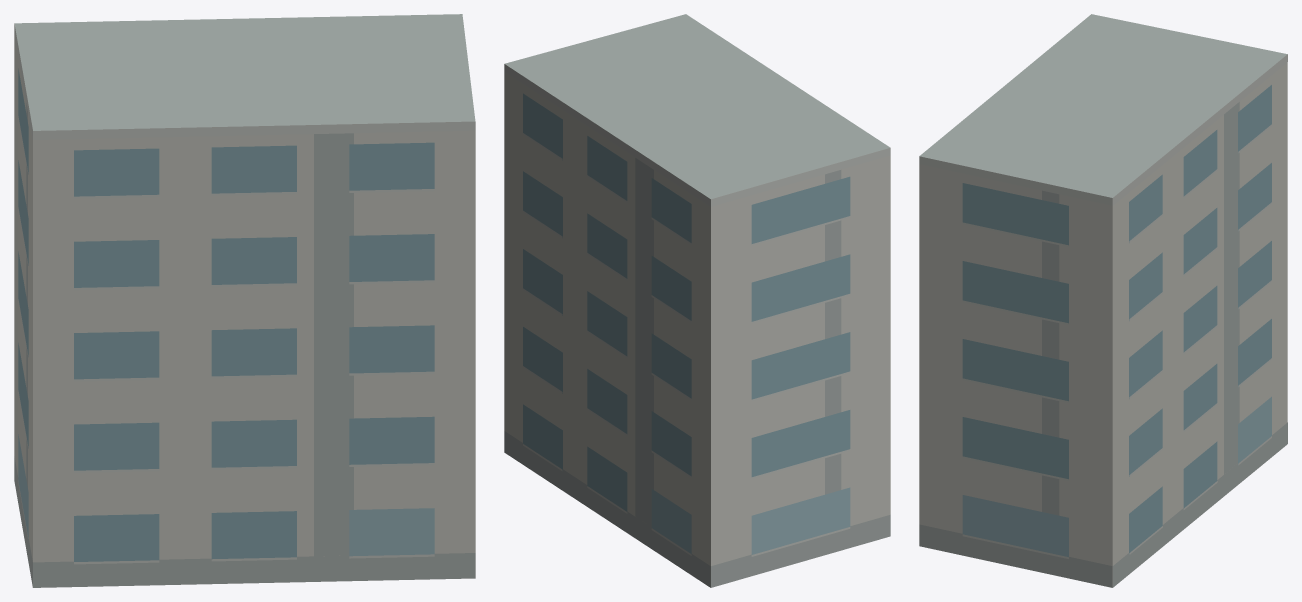
The model's file is survey-upis-32726272.glb.
The picture shows the model from 3 angles, left to right: view 1: azimuth 30°, elevation 25°; view 2: azimuth 150°, elevation 25°; view 3: azimuth 270°, elevation 25°; orthographic projection. The views are drawn at different scales.
Parts seen in each view (by area): view 1: survey-upis-32726272.tmp; view 2: survey-upis-32726272.tmp; view 3: survey-upis-32726272.tmp.
Part boxes in pixels (x1=…): survey-upis-32726272.tmp: x1=14, y1=14, x2=475, y2=587; survey-upis-32726272.tmp: x1=504, y1=14, x2=890, y2=587; survey-upis-32726272.tmp: x1=919, y1=14, x2=1287, y2=587.
Size of the model in its own units: 12.25 by 12.1 by 10.37.
